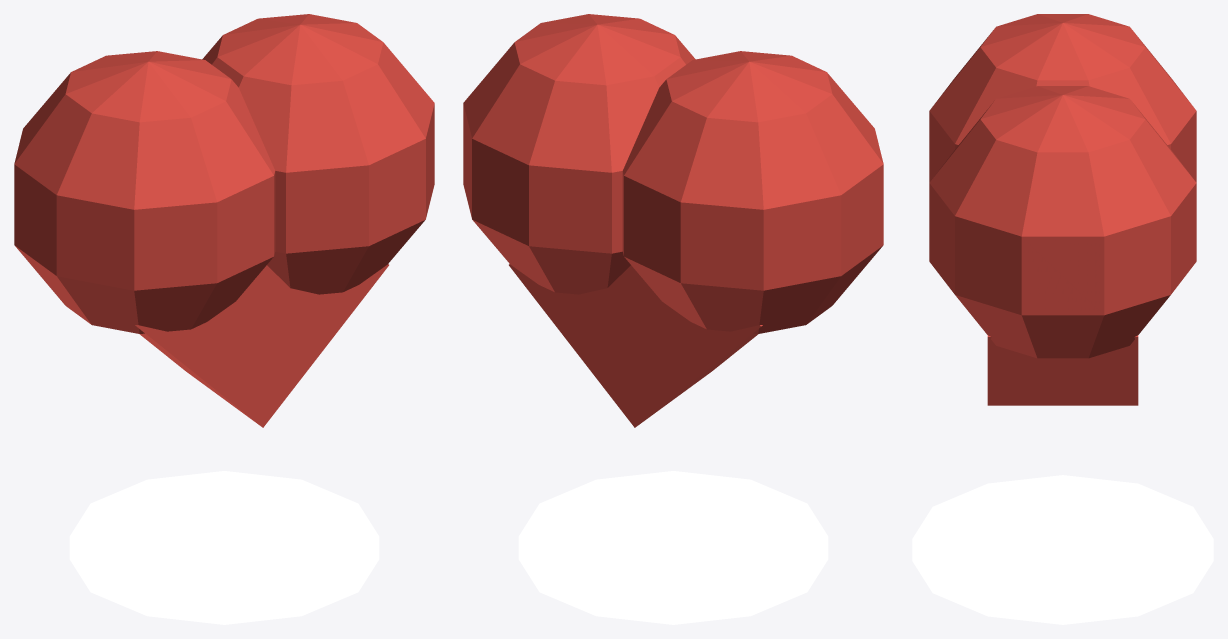
Rendered from PK_HealthHeart.glb.
3 views of the same model, side by side, from view 1: azimuth 30°, elevation 25°; view 2: azimuth 150°, elevation 25°; view 3: azimuth 270°, elevation 25° (orthographic). The views are drawn at different scales.
Visible parts, largest first — view 1: PK_HealthHeart; view 2: PK_HealthHeart; view 3: PK_HealthHeart.
Part boxes in pixels (left/top/right/bottom): PK_HealthHeart: left=14, top=14, right=434, bottom=624; PK_HealthHeart: left=463, top=14, right=883, bottom=624; PK_HealthHeart: left=912, top=14, right=1213, bottom=624.
Size of the model in its own units: 0.8465 by 1.1 by 0.6.
